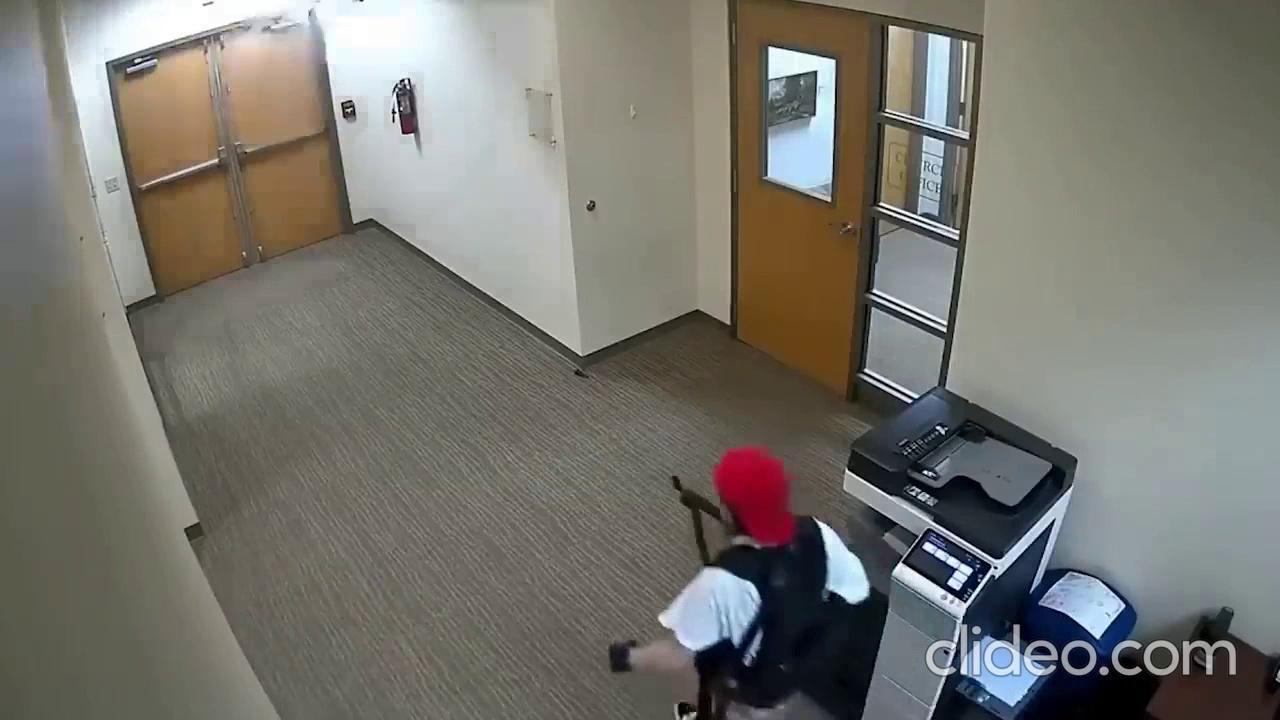person: (607, 445, 871, 720)
rifle: (694, 638, 741, 720)
